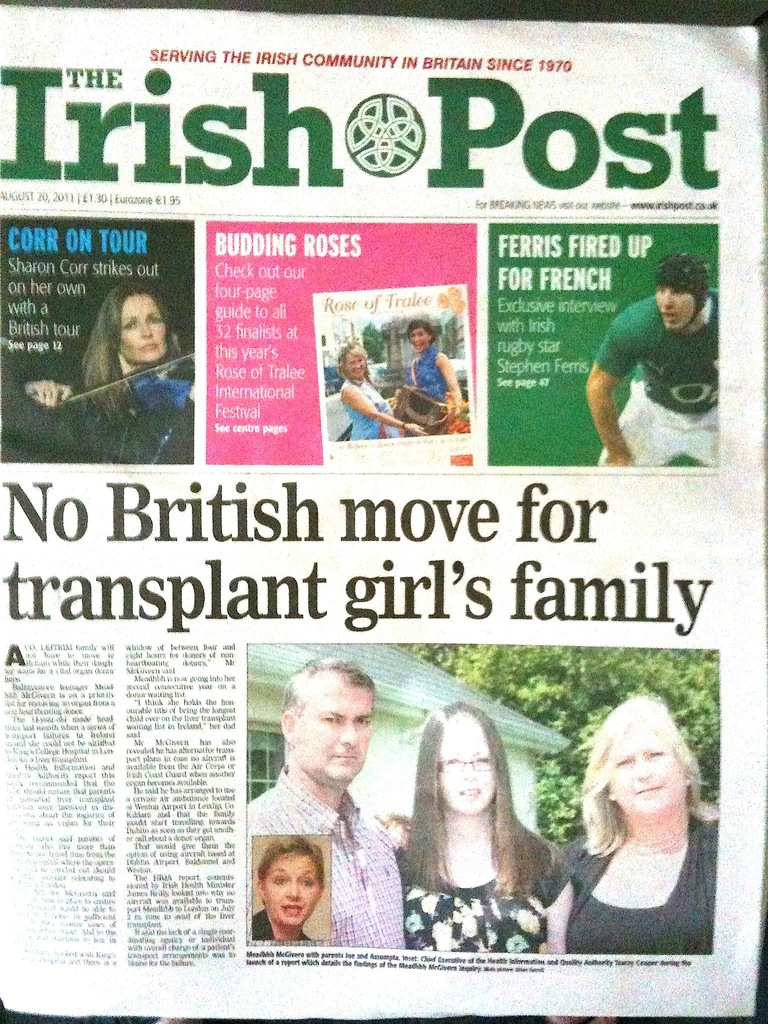person: (25, 278, 195, 443)
